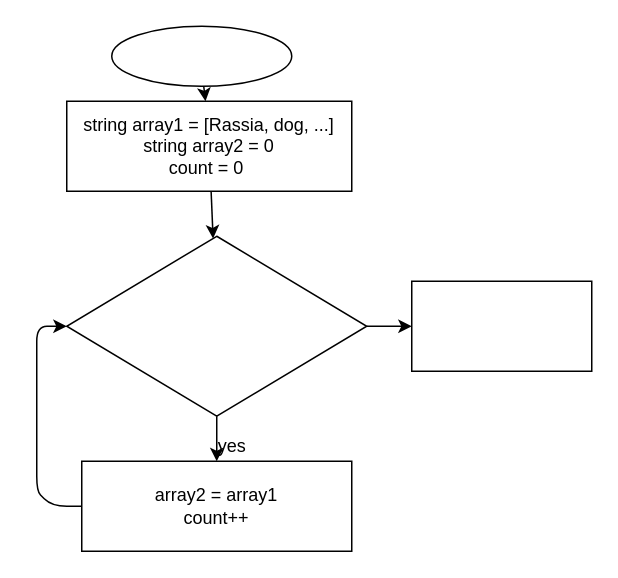
The diagram is 618 pixels wide and 578 high, and some of its shapes have lost their labels. Here are the shapes that lost their labels. From the top down, the centre of each, then its label:
the point at 201,55: start
the point at 216,325: array1/lenght <= 3
